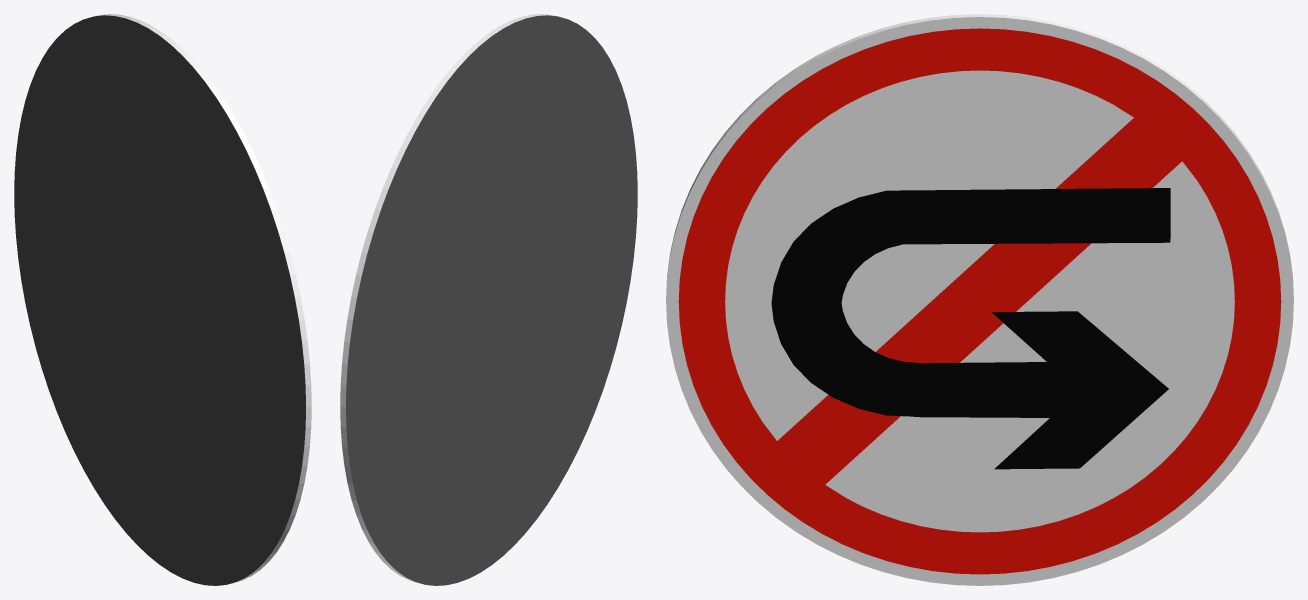
Rendered from 禁止掉头.gltf.
3 renders of one model, left to right at view 1: azimuth 30°, elevation 25°; view 2: azimuth 150°, elevation 25°; view 3: azimuth 270°, elevation 25°, orthographic. The views are drawn at different scales.
Parts seen in each view (by area): view 1: 圆环; view 2: 圆环; view 3: 圆环, BezierCurve.001.
Part boxes in pixels (left/top/right/bottom): 圆环: left=14, top=14, right=311, bottom=585; 圆环: left=340, top=14, right=637, bottom=585; 圆环: left=666, top=14, right=1293, bottom=585; BezierCurve.001: left=771, top=188, right=1170, bottom=469.
Size of the model in its own units: 0.0123 by 0.8 by 0.8.
